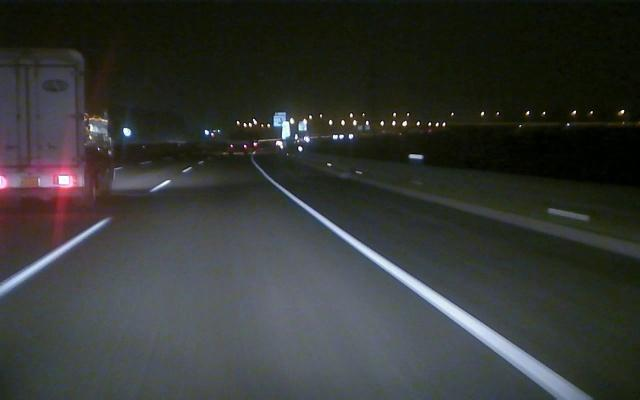lane: (267, 178, 594, 398), (2, 182, 168, 296)
